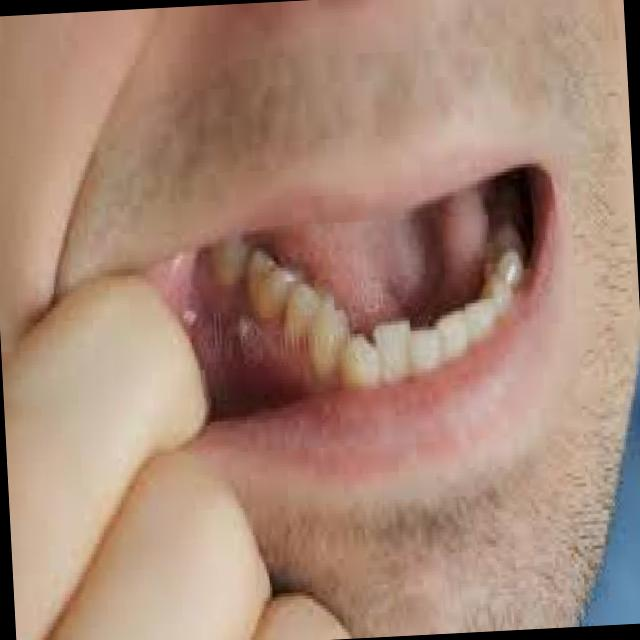abscess: (212, 302, 280, 380)
